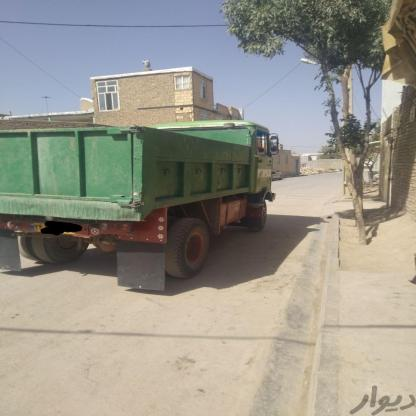Truck: (0, 117, 280, 287)
